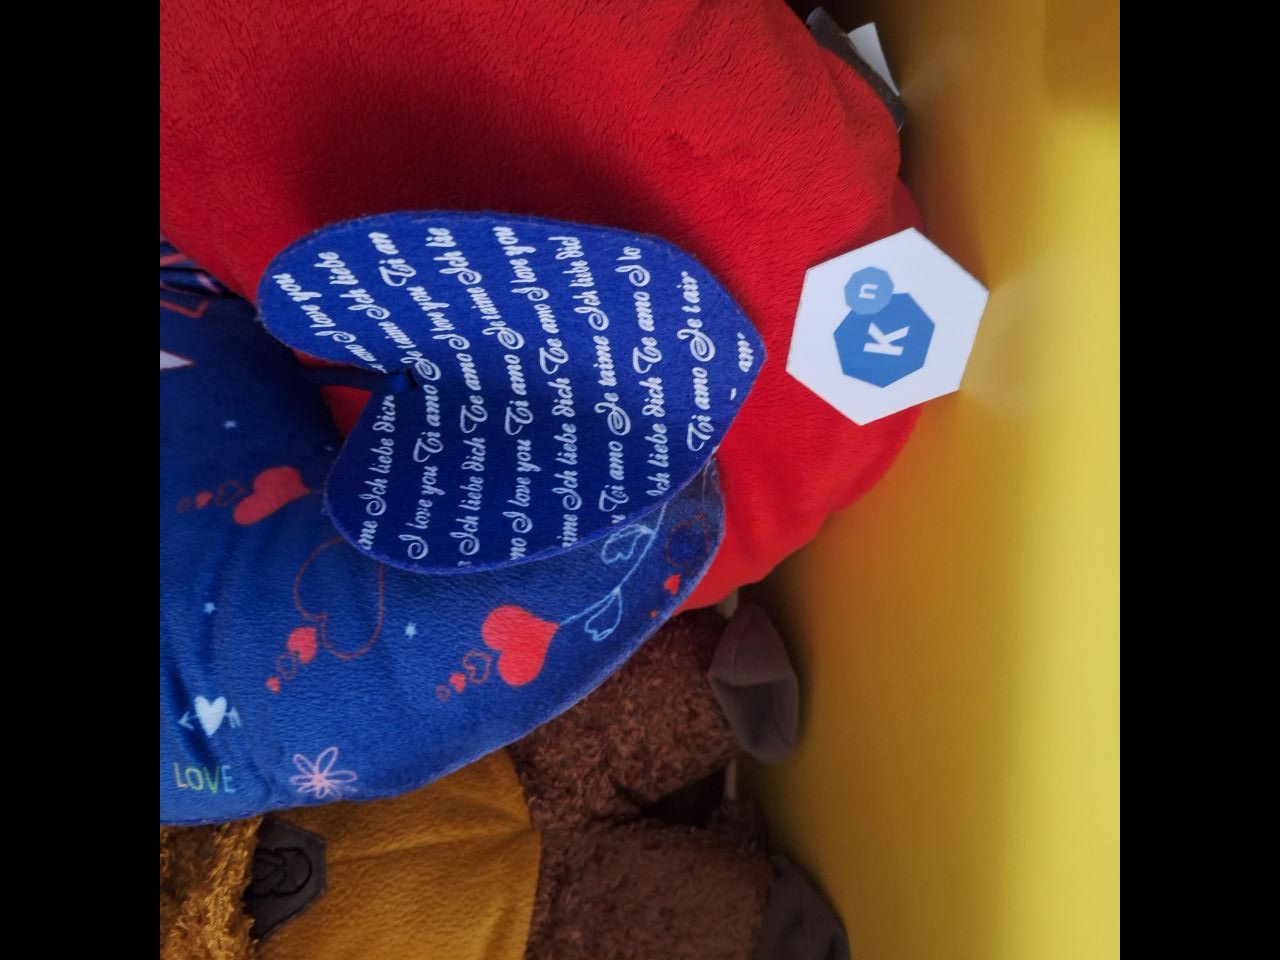knative: (830, 265, 940, 389)
